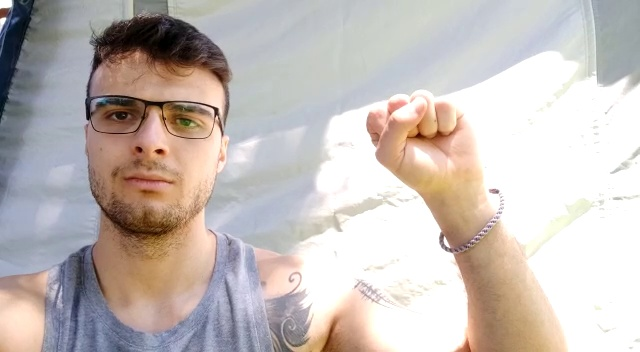Fist: (360, 85, 501, 227)
